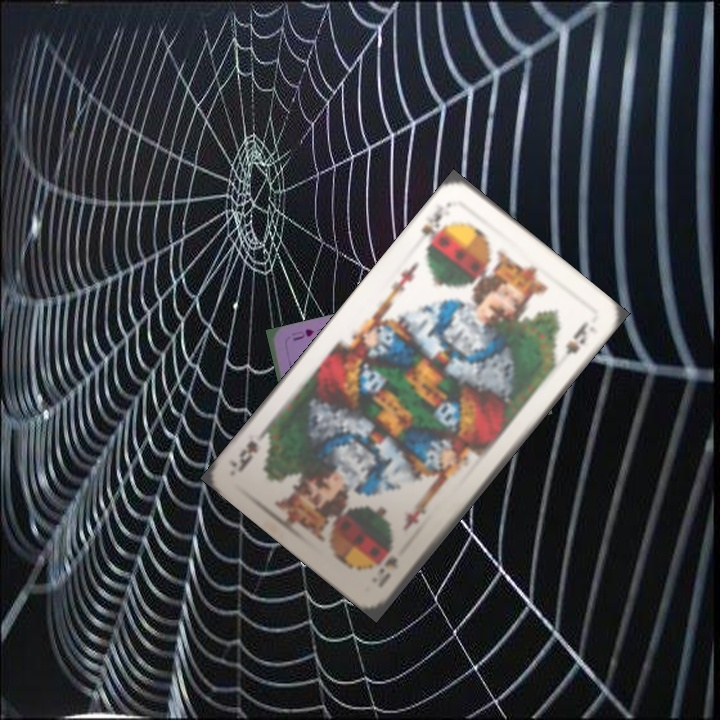SK: (417, 206, 450, 253), (373, 552, 401, 591)
